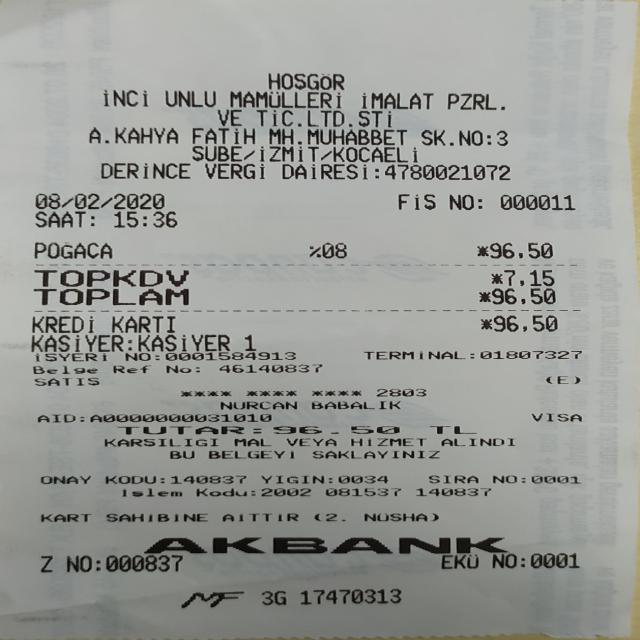text: (143, 538, 512, 554), (279, 163, 513, 180), (188, 146, 420, 163), (29, 333, 230, 352), (34, 288, 188, 305), (34, 270, 188, 286), (255, 110, 398, 126), (117, 426, 399, 434), (34, 193, 164, 209), (228, 91, 340, 108), (124, 350, 295, 361), (36, 414, 270, 422), (298, 588, 402, 605), (362, 351, 581, 359), (306, 128, 407, 145), (417, 130, 509, 146), (100, 162, 190, 178), (490, 552, 580, 568), (33, 241, 111, 259), (105, 553, 182, 571), (268, 72, 343, 90), (478, 288, 556, 305), (476, 242, 553, 259), (480, 315, 557, 331), (360, 92, 432, 109), (189, 127, 257, 145), (499, 194, 575, 210), (112, 210, 178, 228), (489, 269, 555, 286), (178, 591, 244, 608), (105, 476, 245, 484), (34, 210, 98, 227), (110, 316, 173, 333), (115, 127, 178, 143), (312, 450, 438, 458), (204, 163, 266, 179), (31, 316, 93, 332), (446, 93, 506, 109), (218, 364, 321, 373), (163, 90, 217, 107), (104, 438, 218, 446), (196, 488, 310, 496), (260, 125, 300, 147), (106, 513, 207, 521), (102, 90, 147, 106), (35, 352, 106, 362), (311, 401, 399, 409), (492, 475, 580, 483), (398, 194, 438, 210), (437, 554, 478, 569), (220, 401, 296, 409), (350, 438, 426, 446), (222, 513, 297, 521), (363, 513, 438, 521), (309, 242, 346, 258), (325, 488, 399, 496), (416, 488, 490, 496), (208, 451, 292, 458), (34, 377, 98, 386), (261, 476, 331, 484), (121, 488, 181, 497), (448, 194, 481, 210), (67, 556, 100, 572), (441, 438, 514, 445), (216, 108, 244, 126), (32, 366, 96, 373), (531, 413, 581, 421), (40, 476, 90, 484), (338, 475, 388, 483), (376, 388, 425, 396), (428, 475, 477, 483), (260, 591, 287, 605), (286, 438, 336, 445), (40, 514, 90, 521), (88, 127, 109, 143), (430, 426, 475, 433), (37, 555, 54, 573), (245, 390, 295, 396), (234, 438, 270, 446), (111, 365, 149, 372), (546, 376, 579, 384), (180, 391, 230, 396), (313, 513, 344, 521), (165, 365, 198, 372), (243, 334, 256, 350), (311, 391, 360, 395), (169, 451, 193, 458)
